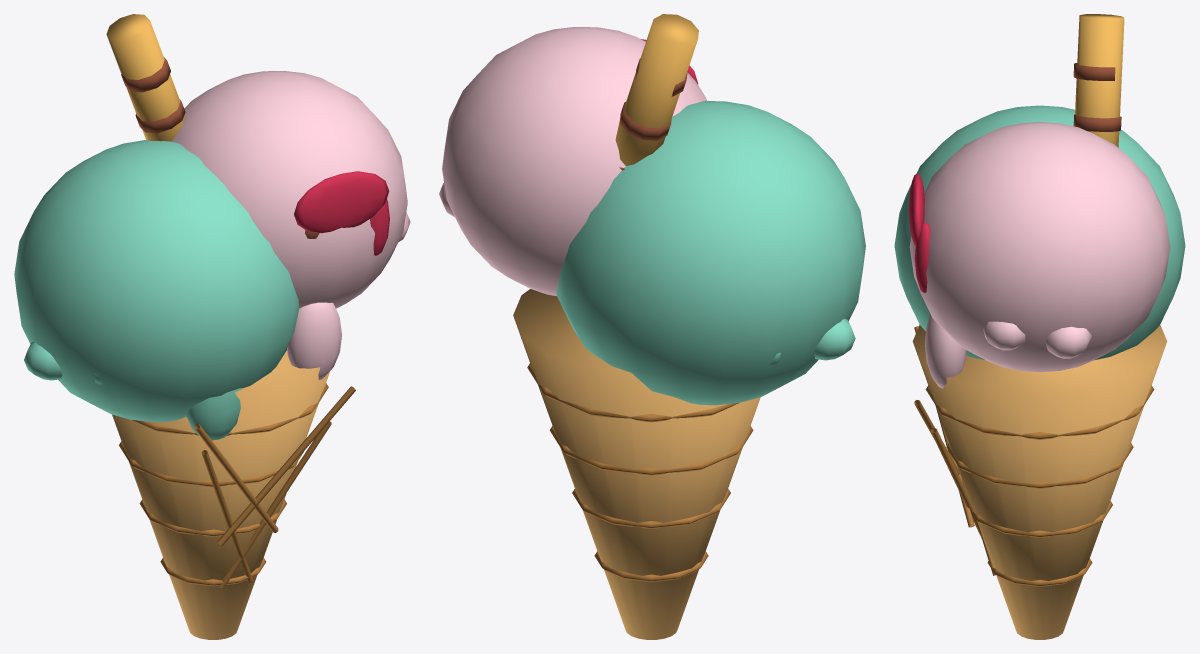
Rendered from icecream.glb.
The picture shows the model from 3 angles, left to right: view 1: azimuth 30°, elevation 25°; view 2: azimuth 150°, elevation 25°; view 3: azimuth 270°, elevation 25°; orthographic projection. The views are drawn at different scales.
Parts seen in each view (by area): view 1: icecream; view 2: icecream; view 3: icecream.
Part boxes in pixels (box(x1,y1,x2,y2)): icecream: box(14, 14, 410, 639); icecream: box(439, 14, 865, 639); icecream: box(894, 14, 1185, 639).
Bounding box in the file's own units: 0.6377 × 1 × 0.4443.
